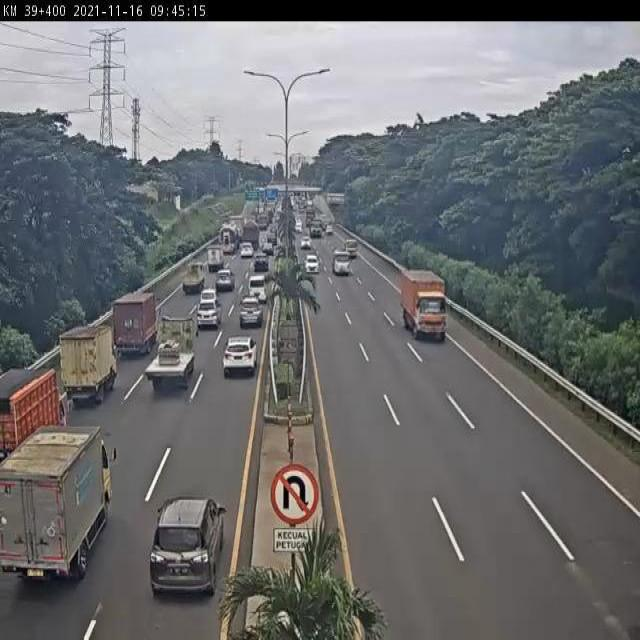car: (151, 500, 223, 596), (223, 339, 255, 377), (238, 296, 262, 327), (197, 300, 220, 327), (216, 268, 235, 291), (200, 291, 216, 304)
small bus: (248, 276, 267, 301)
small truck: (1, 427, 118, 576), (62, 328, 117, 407), (182, 264, 205, 293), (206, 246, 223, 270)
truck-m-: (142, 315, 195, 389), (399, 270, 445, 342), (113, 293, 158, 359)
